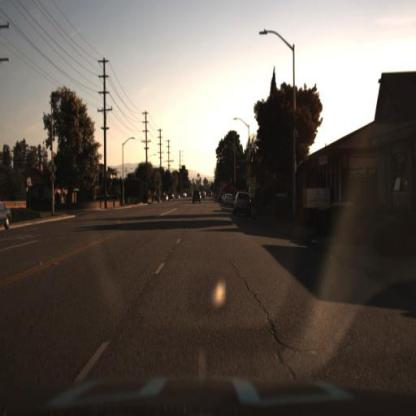car: (232, 188, 255, 218), (189, 187, 205, 206), (222, 192, 234, 208)
